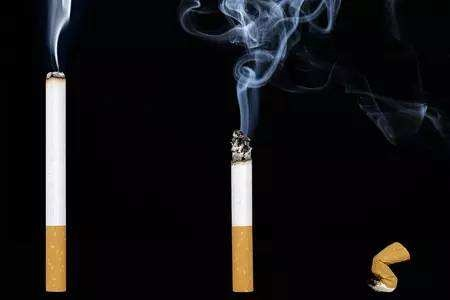smoke: (179, 1, 337, 133), (47, 1, 73, 71)
